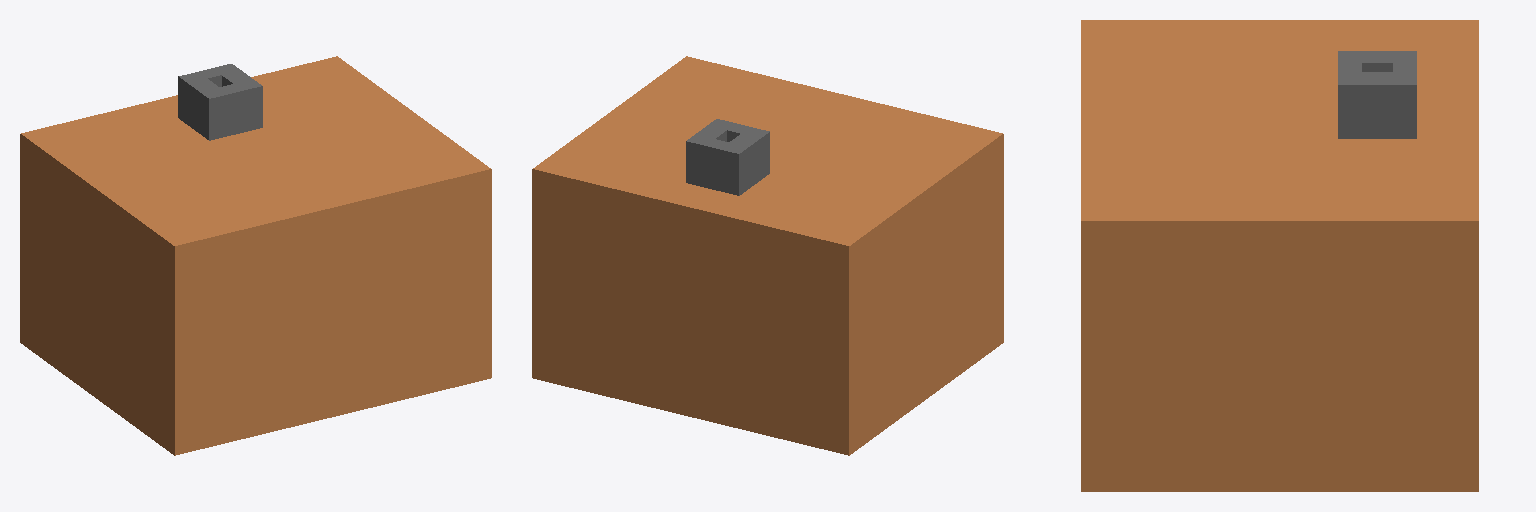
robot.urdf — peg_in_hole_tolerances_scenes_scene_0069_tol00:
<?xml version="1.0"?>
<robot name="peg_in_hole_tolerances_scenes_scene_0069_tol00">
  <material name="wood"><color rgba="0.82 0.56 0.35 1.0"/></material>
  <material name="hole_grey"><color rgba="0.4706 0.4706 0.4706 1.0"/></material>
  <link name="box">
    <visual>
      <origin xyz="0.000000 0.000000 0.000000" rpy="0 0 0"/>
      <geometry><box size="0.475000 0.400000 0.300000"/></geometry>
      <material name="wood"/>
    </visual>
    <collision>
      <origin xyz="0.000000 0.000000 0.000000" rpy="0 0 0"/>
      <geometry><box size="0.475000 0.400000 0.300000"/></geometry>
    </collision>
    <visual>
      <origin xyz="0.003373 0.097807 0.155000" rpy="0 0 0"/>
      <geometry><box size="0.080000 0.080000 0.010000"/></geometry>
      <material name="hole_grey"/>
    </visual>
    <collision>
      <origin xyz="0.003373 0.097807 0.155000" rpy="0 0 0"/>
      <geometry><box size="0.080000 0.080000 0.010000"/></geometry>
    </collision>
    <visual>
      <origin xyz="0.028626 0.097807 0.185000" rpy="0 0 0"/>
      <geometry><box size="0.029494 0.080000 0.050000"/></geometry>
      <material name="hole_grey"/>
    </visual>
    <collision>
      <origin xyz="0.028626 0.097807 0.185000" rpy="0 0 0"/>
      <geometry><box size="0.029494 0.080000 0.050000"/></geometry>
    </collision>
    <visual>
      <origin xyz="-0.021880 0.097807 0.185000" rpy="0 0 0"/>
      <geometry><box size="0.029494 0.080000 0.050000"/></geometry>
      <material name="hole_grey"/>
    </visual>
    <collision>
      <origin xyz="-0.021880 0.097807 0.185000" rpy="0 0 0"/>
      <geometry><box size="0.029494 0.080000 0.050000"/></geometry>
    </collision>
    <visual>
      <origin xyz="0.003373 0.125560 0.185000" rpy="0 0 0"/>
      <geometry><box size="0.021012 0.024494 0.050000"/></geometry>
      <material name="hole_grey"/>
    </visual>
    <collision>
      <origin xyz="0.003373 0.125560 0.185000" rpy="0 0 0"/>
      <geometry><box size="0.021012 0.024494 0.050000"/></geometry>
    </collision>
    <visual>
      <origin xyz="0.003373 0.070055 0.185000" rpy="0 0 0"/>
      <geometry><box size="0.021012 0.024494 0.050000"/></geometry>
      <material name="hole_grey"/>
    </visual>
    <collision>
      <origin xyz="0.003373 0.070055 0.185000" rpy="0 0 0"/>
      <geometry><box size="0.021012 0.024494 0.050000"/></geometry>
    </collision>
    <inertial>
      <mass value="500"/>
      <friction value="1.0"/>
      <inertia ixx="1000.0" ixy="0.0" ixz="0.0" iyy="1000.0" iyz="0.0" izz="1000.0"/>
    </inertial>
  </link>
</robot>

--- What the picture shows (computed from the rendered views, not written in the file) ---
3 views of the same robot in one strip: view 1: azimuth 30°, elevation 25°; view 2: azimuth 150°, elevation 25°; view 3: azimuth 270°, elevation 25° (orthographic).
Robot: peg_in_hole_tolerances_scenes_scene_0069_tol00 — 1 links, 0 joints (none); root link box; default pose: every joint at zero.
Visible links, largest first — view 1: box; view 2: box; view 3: box.
Boxes of the visible links, x1,y1,x2,y2 form: box: [20, 56, 491, 455]; box: [532, 56, 1003, 455]; box: [1081, 20, 1478, 491].
Size in the robot's own frame: 0.475 by 0.4 by 0.36 metres.
Geometry: primitives only (box / cylinder / sphere), no mesh files.
